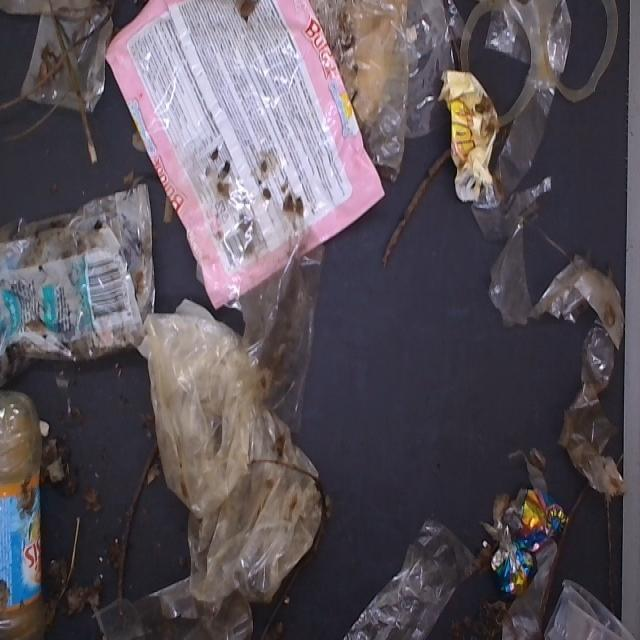food_wrapping: (89, 0, 386, 272), (479, 478, 569, 614), (437, 65, 507, 217)
pet_pottles: (0, 384, 65, 640)
plastic_cups: (94, 568, 253, 640), (531, 580, 639, 640)
plastic_films: (462, 0, 640, 527), (136, 239, 358, 601), (0, 207, 179, 360), (342, 0, 474, 183), (347, 510, 467, 640), (1, 2, 120, 123)
